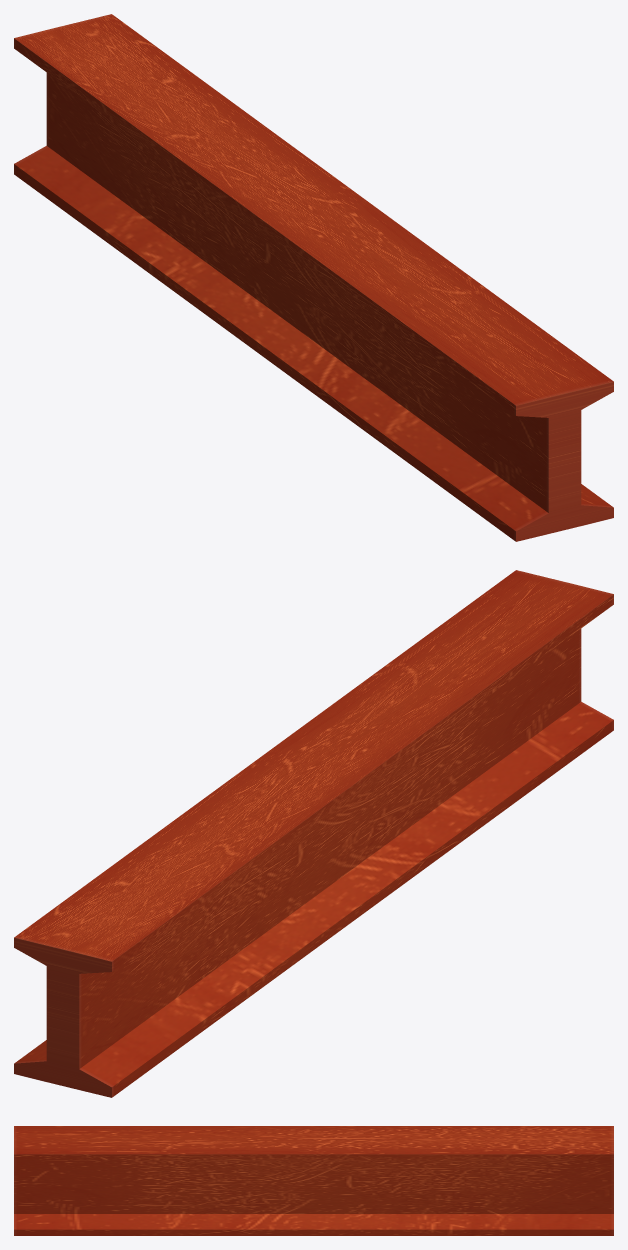
The model's file is IBeam.FBX.
3 views of the same model, one above another, from view 1: azimuth 30°, elevation 25°; view 2: azimuth 150°, elevation 25°; view 3: azimuth 270°, elevation 25° (orthographic). The views are drawn at different scales.
Parts seen in each view (by area): view 1: Box01; view 2: Box01; view 3: Box01.
Part boxes in pixels (box(x1,y1,x2,y2)): Box01: box(14, 14, 613, 541); Box01: box(14, 570, 613, 1097); Box01: box(14, 1126, 613, 1235).
Bounding box in the file's own units: 0.45 × 0.6001 × 4.
